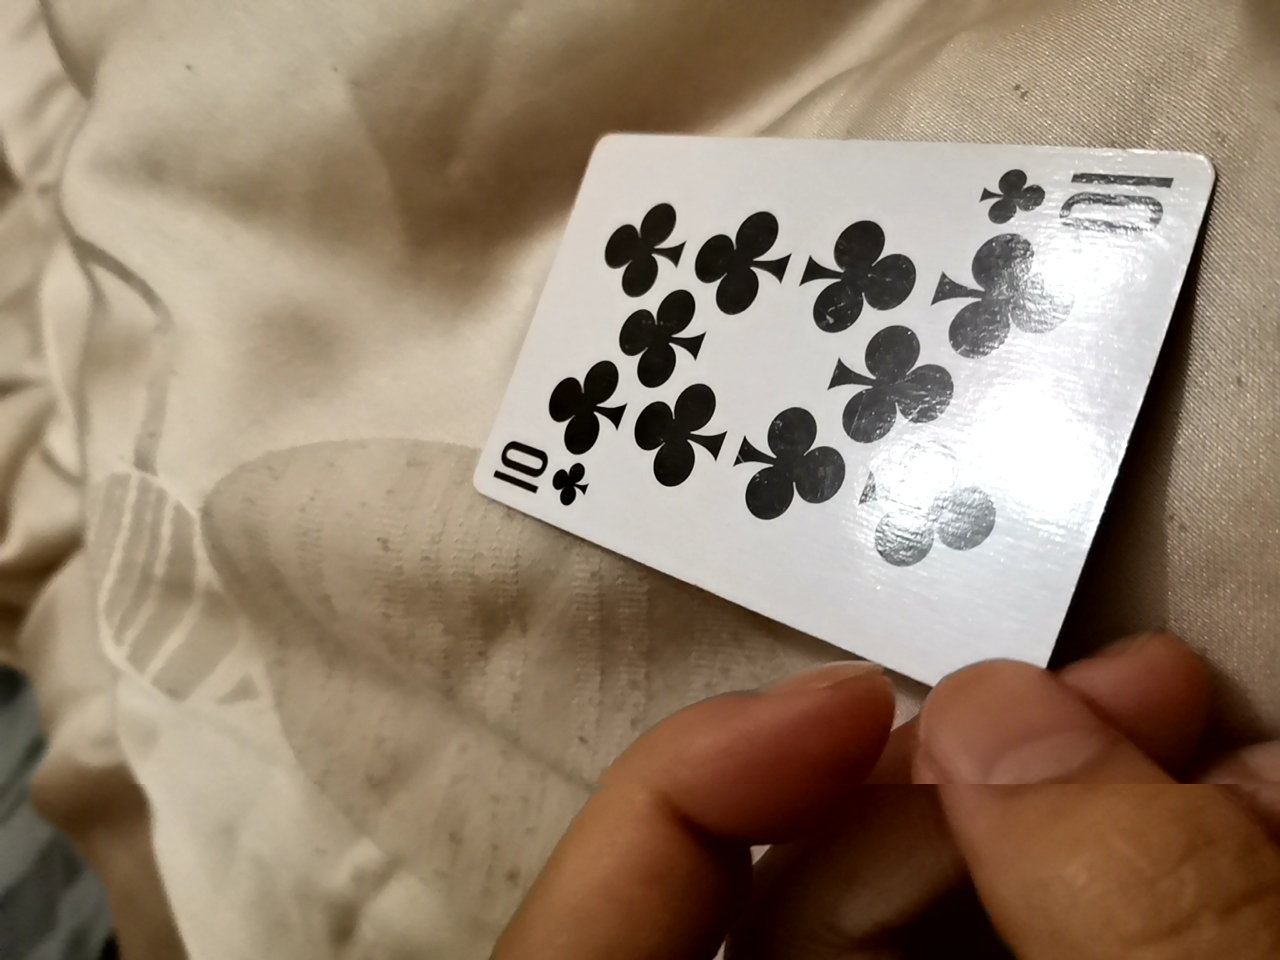mh 10: (469, 123, 1214, 682)
